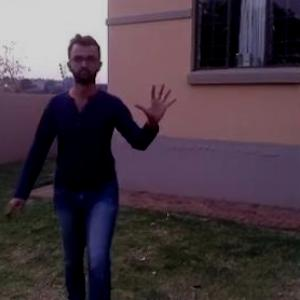follow_hand: (134, 79, 181, 124)
